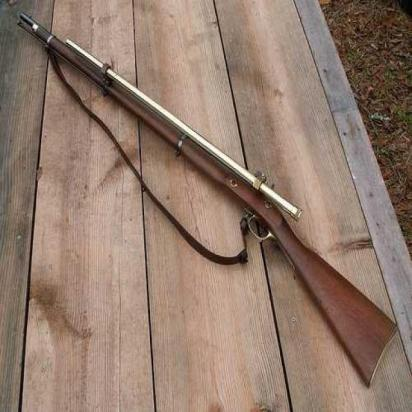Gun: (16, 9, 402, 391)
